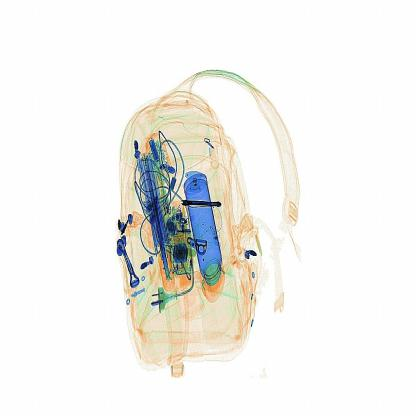knife: (175, 188, 231, 218)
